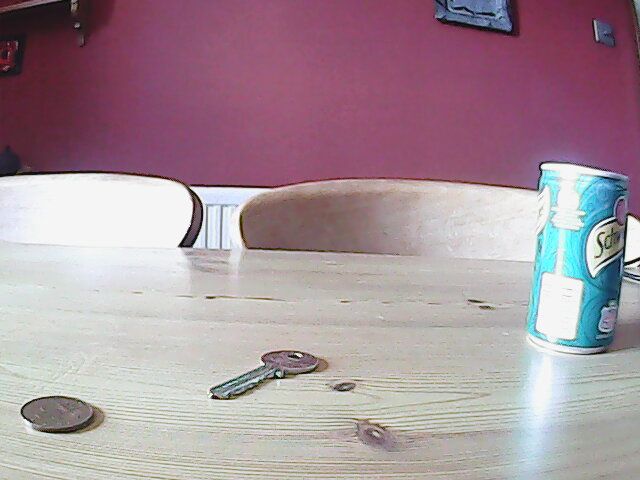Can: (521, 159, 632, 358)
Coin: (16, 392, 100, 438)
Key: (201, 346, 326, 404)
